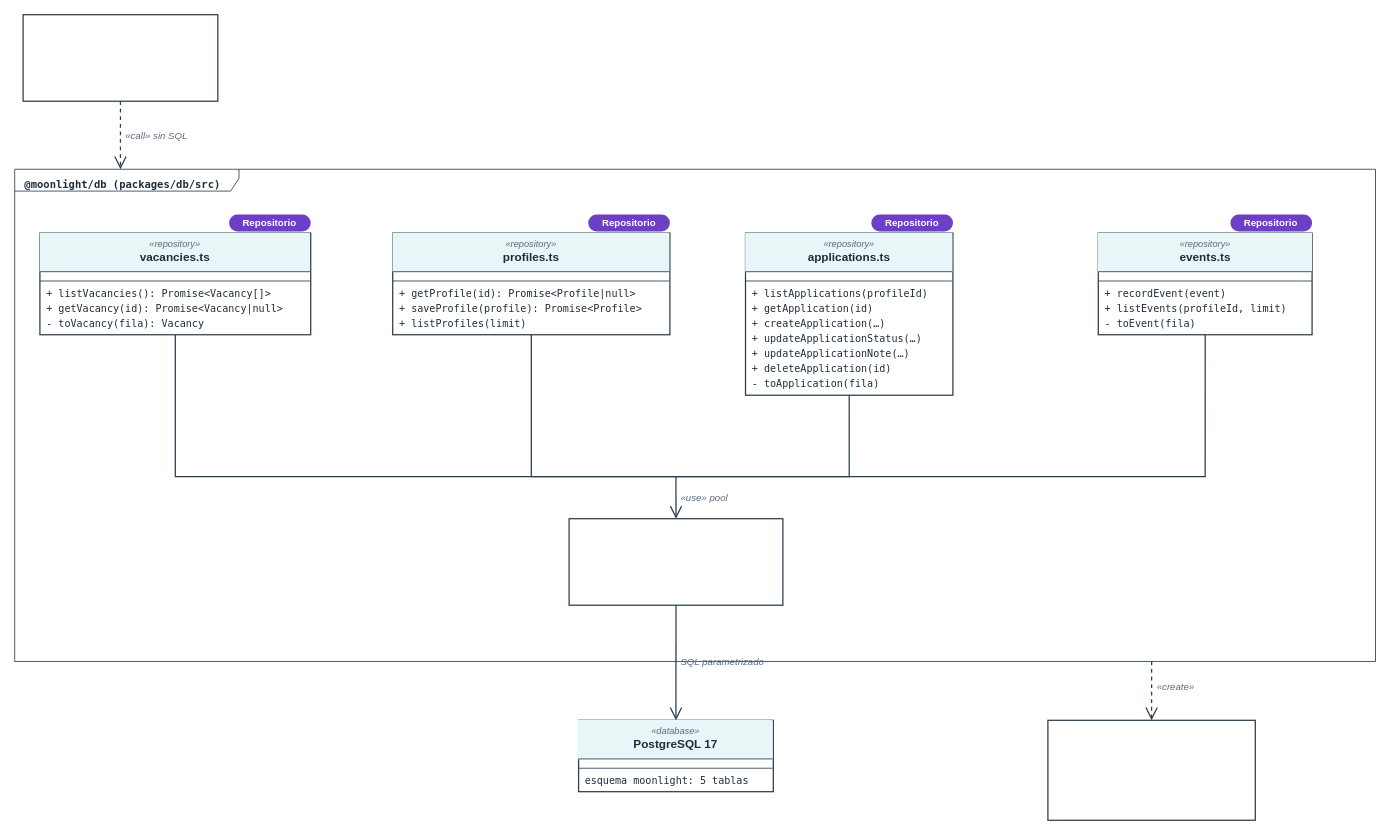
This 1390x836 diagram has some shape labels left out. The centre of each missing label's shape, as x and y in pixels:
"«cliente» Clientes apps/web/lib/queries.ts app/api/** (route handlers)" goes at point (120, 57).
"«module» pool.ts + pool: pg.Pool DATABASE_URL, DATABASE_CA_CERT" goes at point (675, 561).
"«type» Entidades packages/types Vacancy, Profile Application, ApplicationEvent" goes at point (1151, 770).
